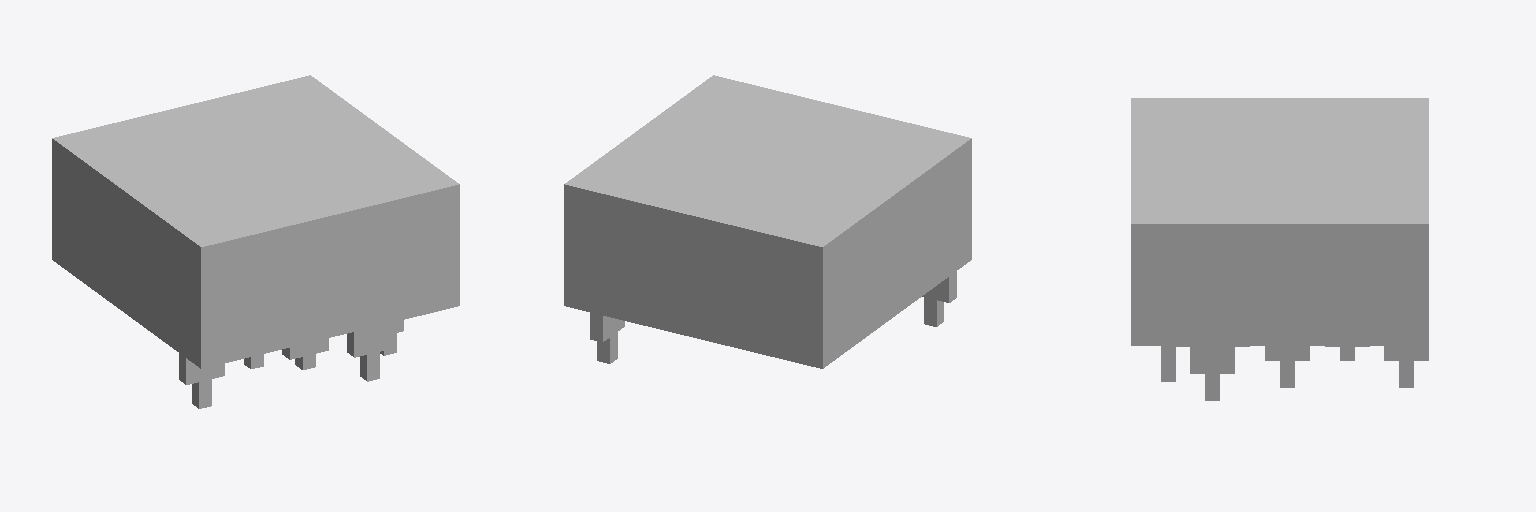
The model's file is yeti owl-5.obj.
The picture shows the model from 3 angles: view 1: azimuth 30°, elevation 25°; view 2: azimuth 150°, elevation 25°; view 3: azimuth 270°, elevation 25°; orthographic projection.
Parts seen in each view (by area): view 1: object 1; view 2: object 1; view 3: object 1.
Part boxes in pixels (left/top/right/bottom): object 1: left=52, top=75, right=459, bottom=408; object 1: left=564, top=75, right=971, bottom=368; object 1: left=1131, top=98, right=1428, bottom=400.
Size of the model in its own units: 2 by 1.4 by 2.